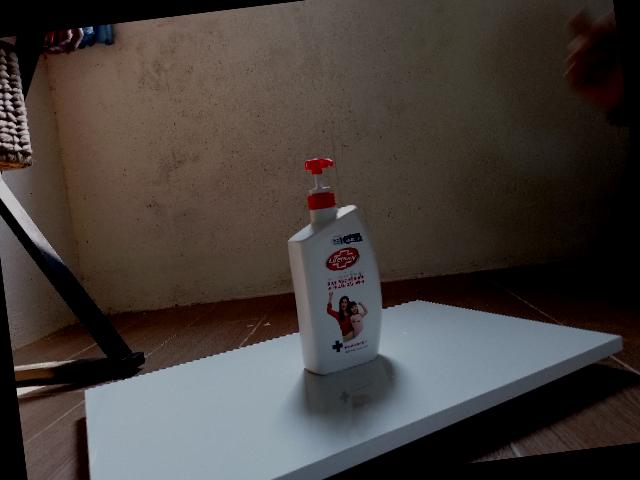life-buoy: (286, 158, 382, 376)
